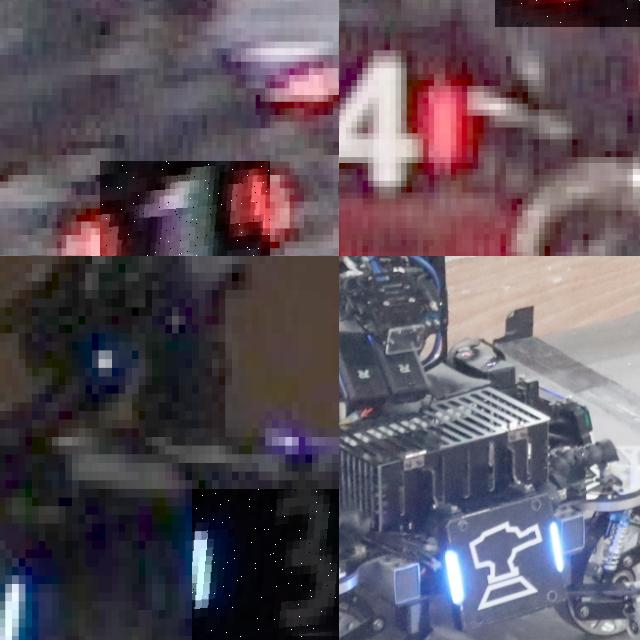B3: (192, 488, 339, 640)
Bs: (442, 519, 571, 607)
R1: (100, 161, 269, 256)
R4: (339, 44, 467, 192)
